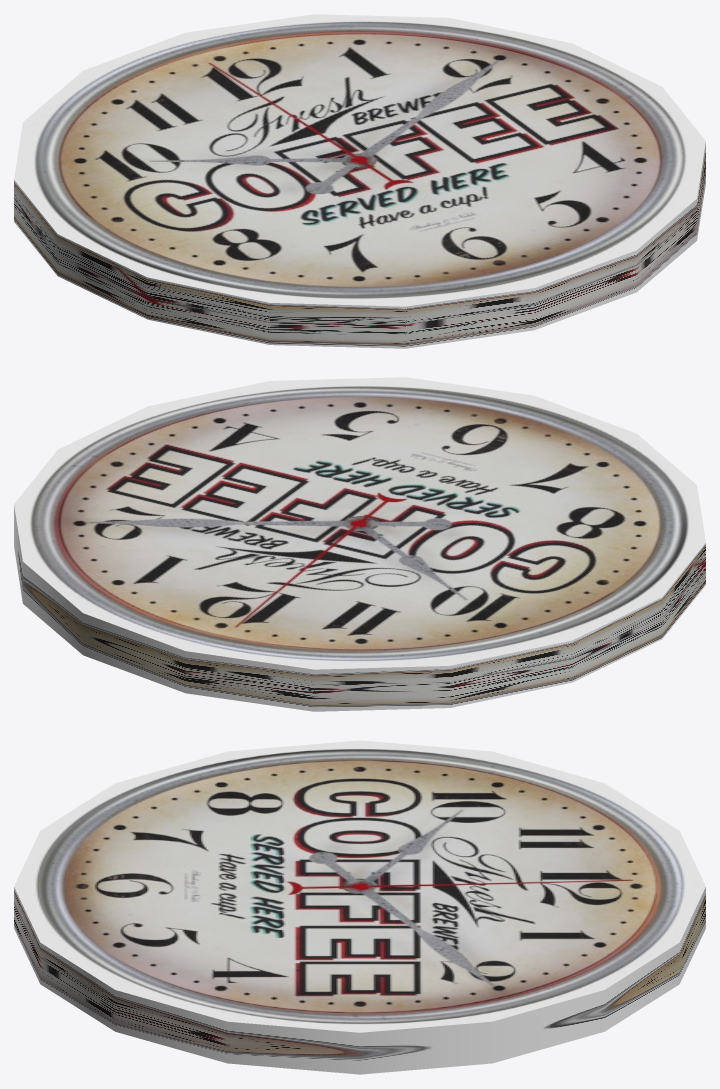
Rendered from clock.fbx.
3 renders of one model, top to bottom at view 1: azimuth 30°, elevation 25°; view 2: azimuth 150°, elevation 25°; view 3: azimuth 270°, elevation 25°, orthographic.
Parts seen in each view (by area): view 1: pCylinder5; view 2: pCylinder5; view 3: pCylinder5.
Part boxes in pixels (x1,y1,x2,y2): pCylinder5: (14,14,705,348); pCylinder5: (14,377,705,711); pCylinder5: (14,740,705,1074).
Size of the model in its own units: 90 by 6 by 90.
1 material, 1 textured.
